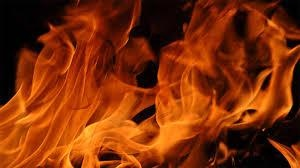fire: (4, 5, 261, 168)
